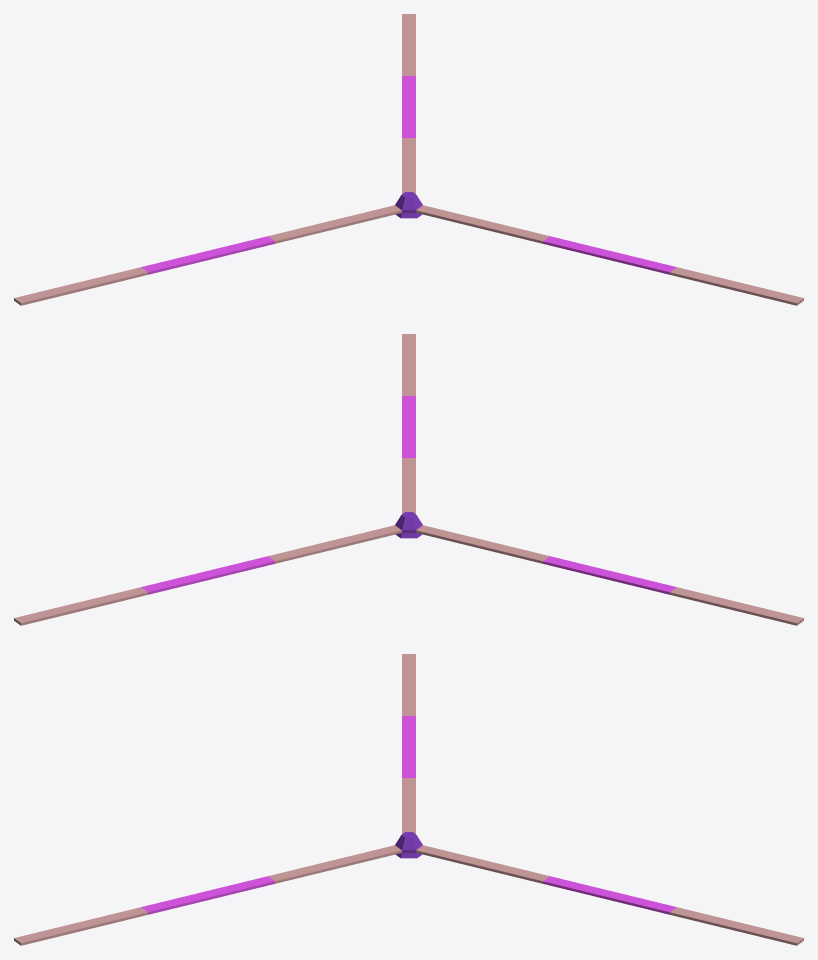
The model's file is heli67_prop.obj.
3 renders of one model, top to bottom at view 1: azimuth 30°, elevation 25°; view 2: azimuth 150°, elevation 25°; view 3: azimuth 270°, elevation 25°, orthographic.
Parts seen in each view (by area): view 1: Cylinder; view 2: Cylinder; view 3: Cylinder.
Part boxes in pixels (x1,y1,x2,y2): Cylinder: (14, 14, 803, 305); Cylinder: (14, 334, 803, 625); Cylinder: (14, 654, 803, 945).
Bounding box in the file's own units: 7.78 × 0.2178 × 8.98.
